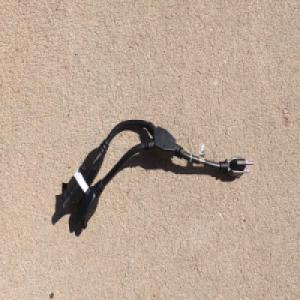Wire: (60, 117, 255, 232)
